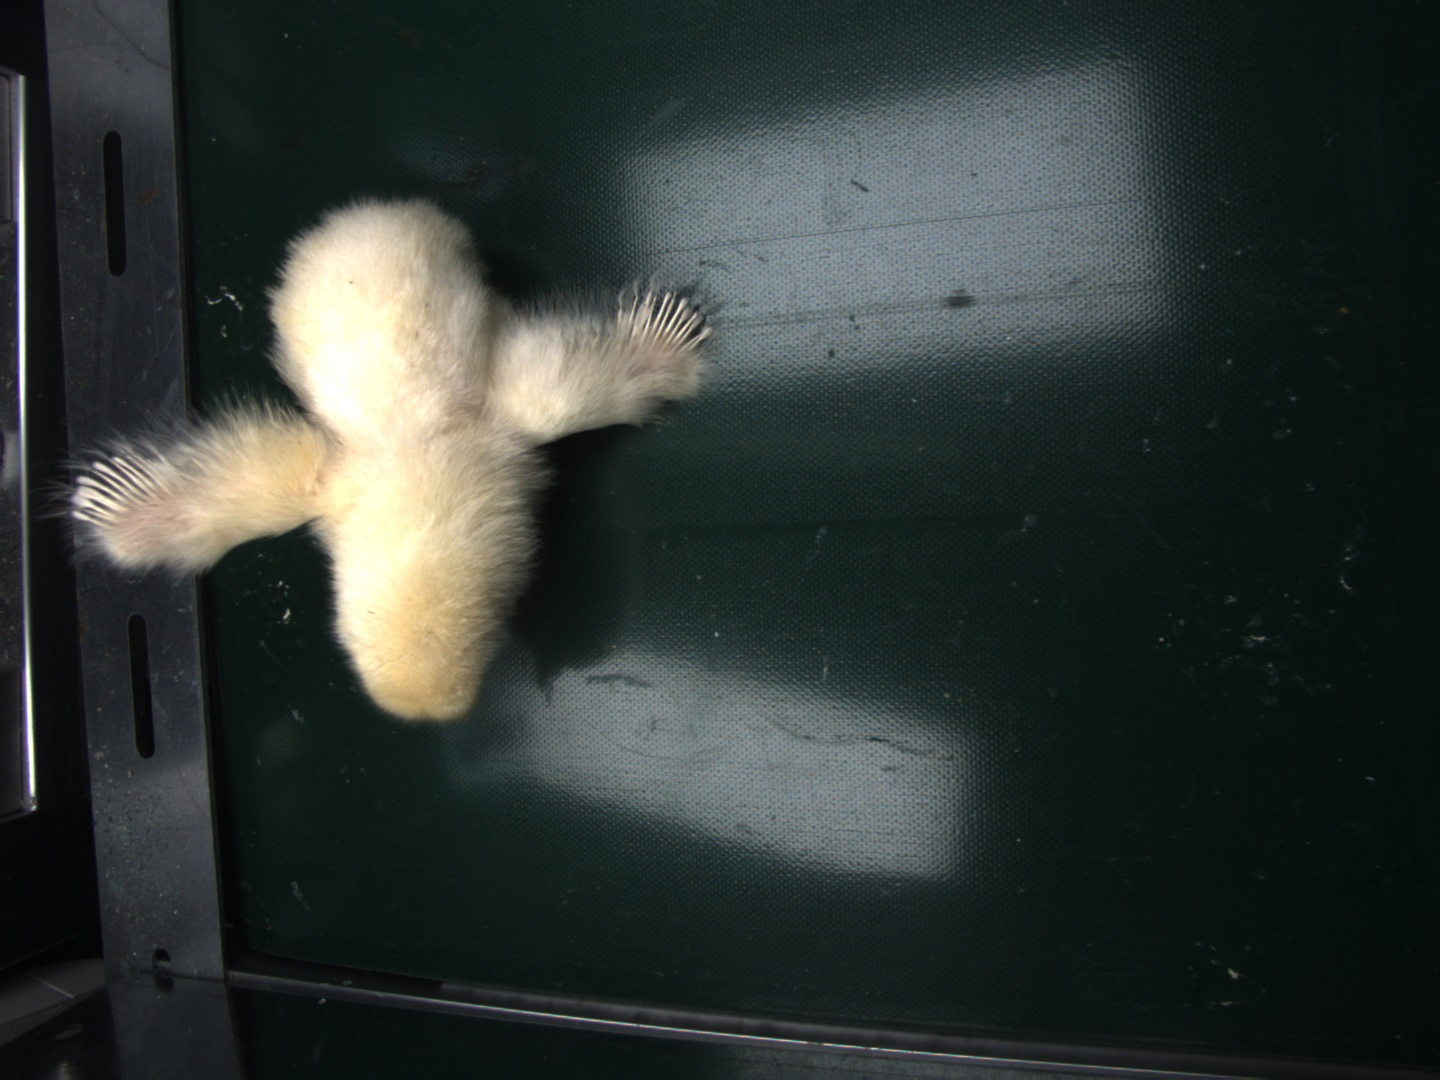male: (71, 447, 167, 530), (621, 290, 713, 351)
